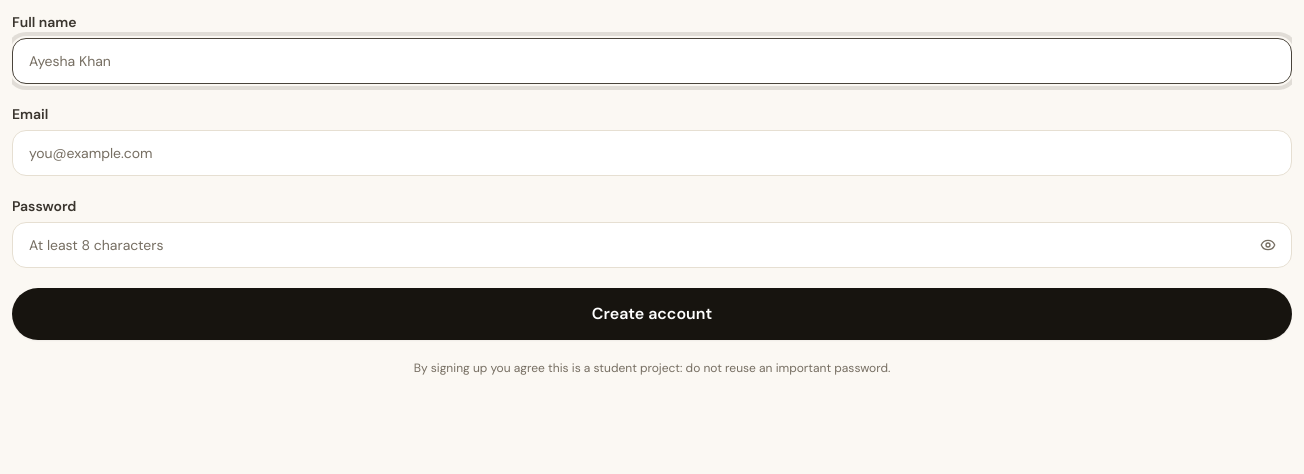
RegisterForm › shows a duplicate-email error with a link to log in
Type "Omar Raza" into the field labelled "Full name".
click(652, 61); type("Omar Raza")  # box left=12, top=38, right=1292, bottom=84
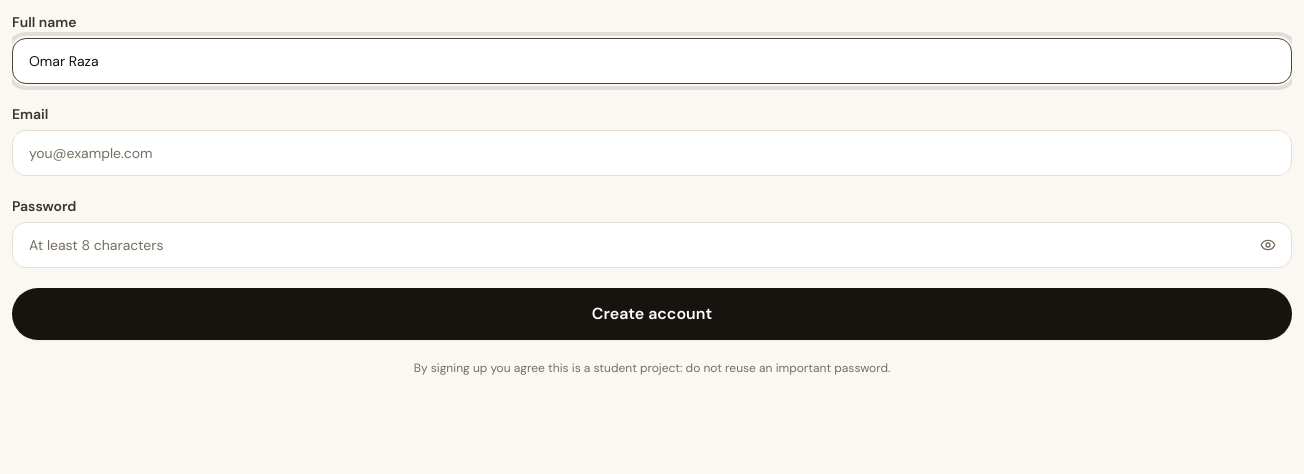
Type "omar@example.com" into the field labelled "Email".
click(652, 153); type("omar@example.com")  # box left=12, top=130, right=1292, bottom=176
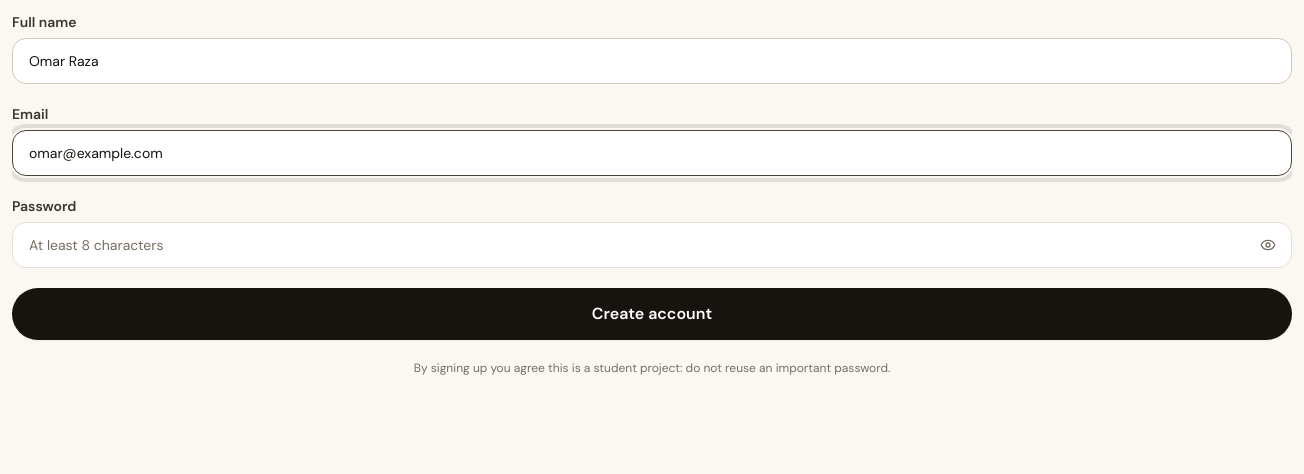
Type "password1" into the password field labelled "Password".
click(652, 245); type("password1")  # box left=12, top=222, right=1292, bottom=268
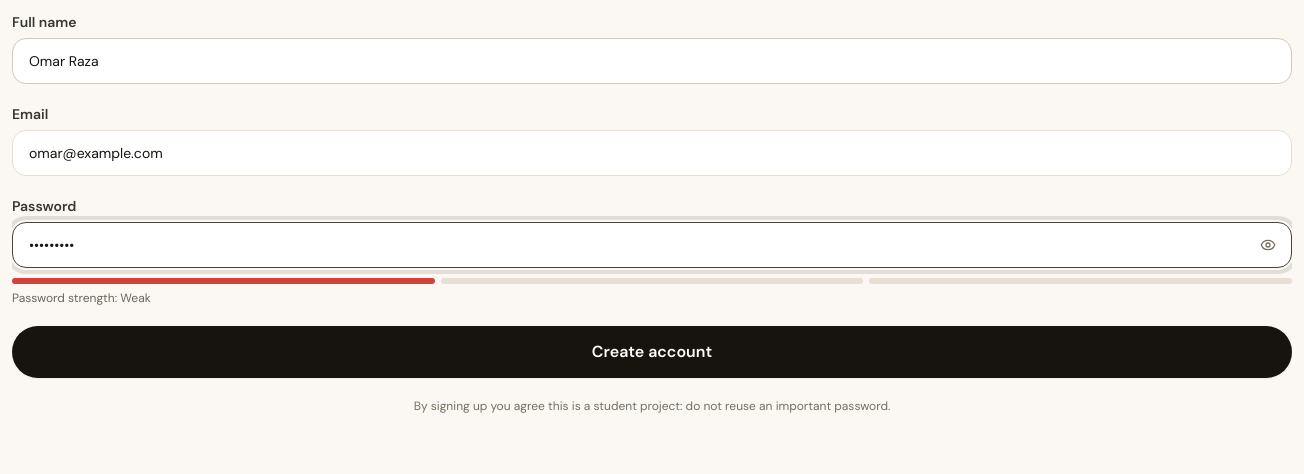
Click the button "Create account".
click(652, 352)  # box left=12, top=326, right=1292, bottom=378
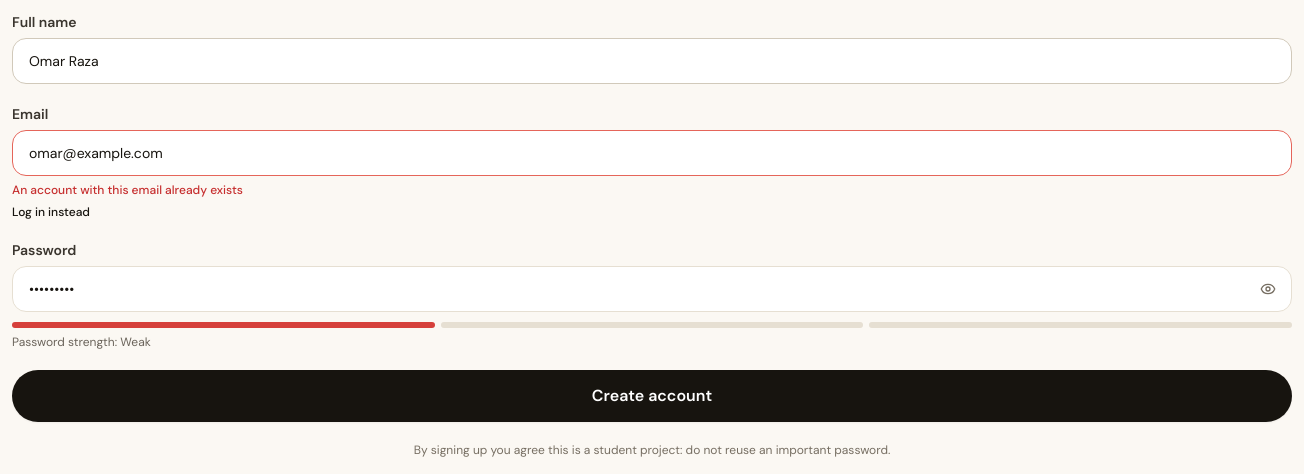
Expected: the text "An account with this email already exists" is shown, left=12, top=182, right=243, bottom=198
